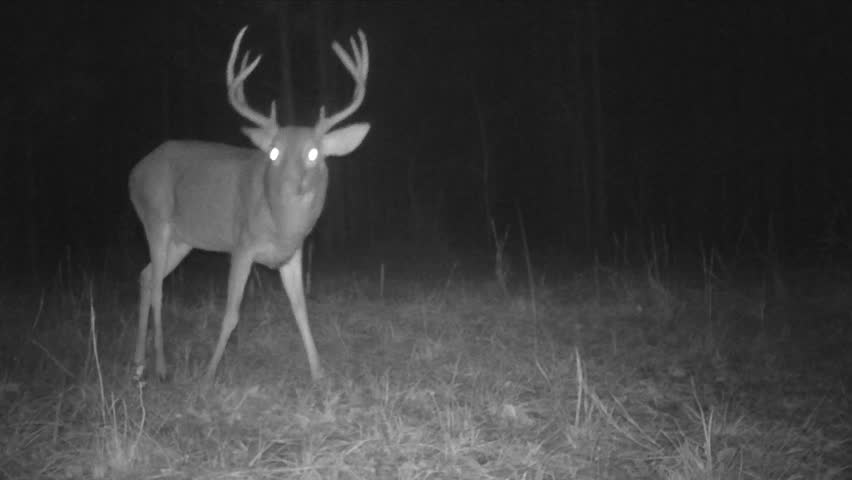deer: (110, 11, 472, 376)
